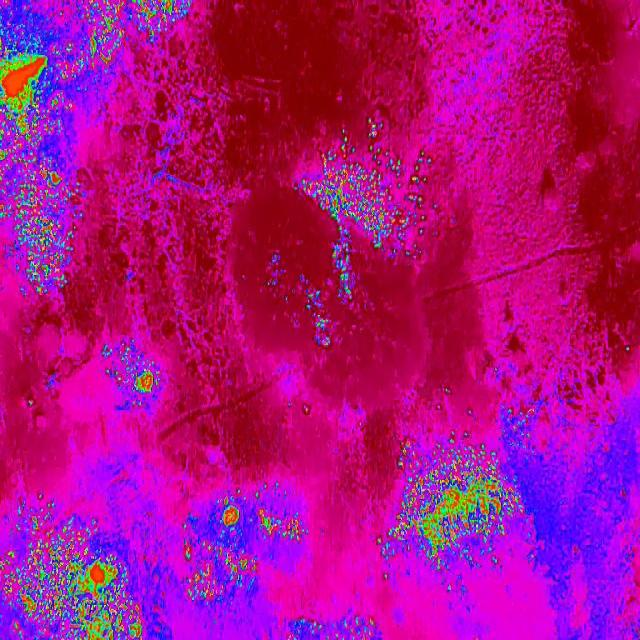fire: (0, 0, 95, 294), (0, 492, 168, 640), (376, 440, 526, 599), (296, 117, 439, 259), (179, 485, 312, 607), (96, 0, 194, 66), (97, 337, 168, 418), (302, 270, 332, 350), (289, 615, 385, 640), (332, 258, 354, 304)
